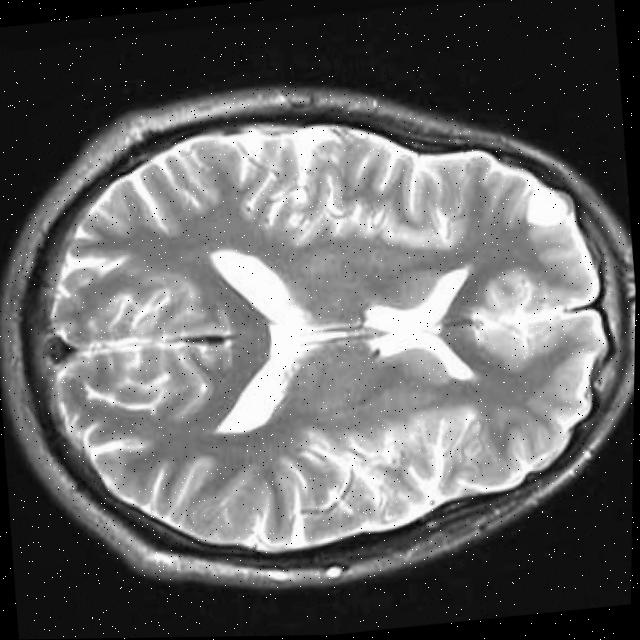NoTumor: (0, 47, 639, 622)
